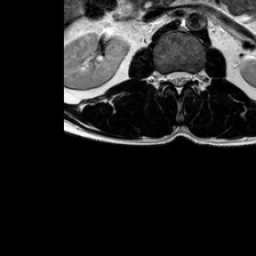CCS_normal: (174, 63, 183, 99)
LFS_normal: (191, 63, 199, 91)
LLS_normal: (183, 63, 191, 91)
RFS_normal: (158, 65, 166, 88)
RLS_normal: (166, 64, 174, 89)
